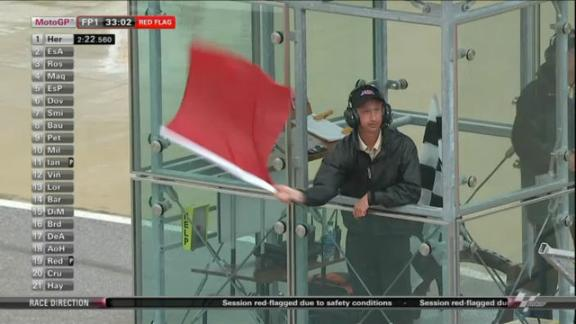Flag: (167, 39, 293, 182)
